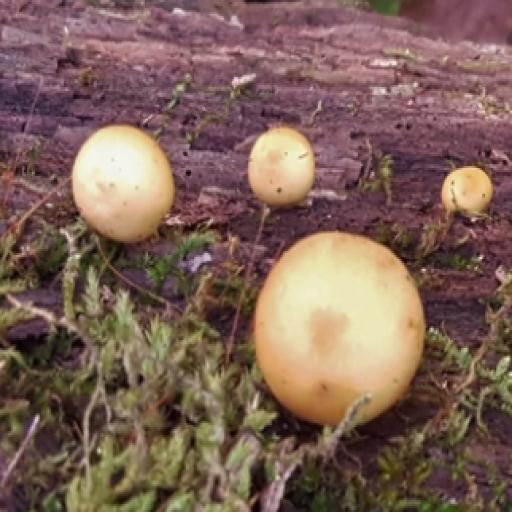mushroom: (242, 227, 428, 440), (62, 89, 182, 273), (240, 110, 321, 213), (428, 149, 498, 231)
